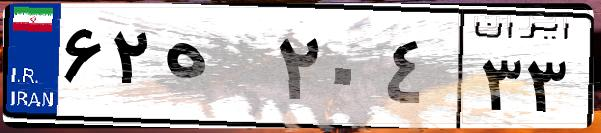0: (330, 28, 385, 110)
2: (270, 28, 330, 110), (110, 28, 158, 98)
3: (475, 38, 525, 113), (525, 38, 570, 115)
4: (385, 28, 445, 110)
6: (57, 26, 110, 100)
ه: (158, 20, 270, 120)
